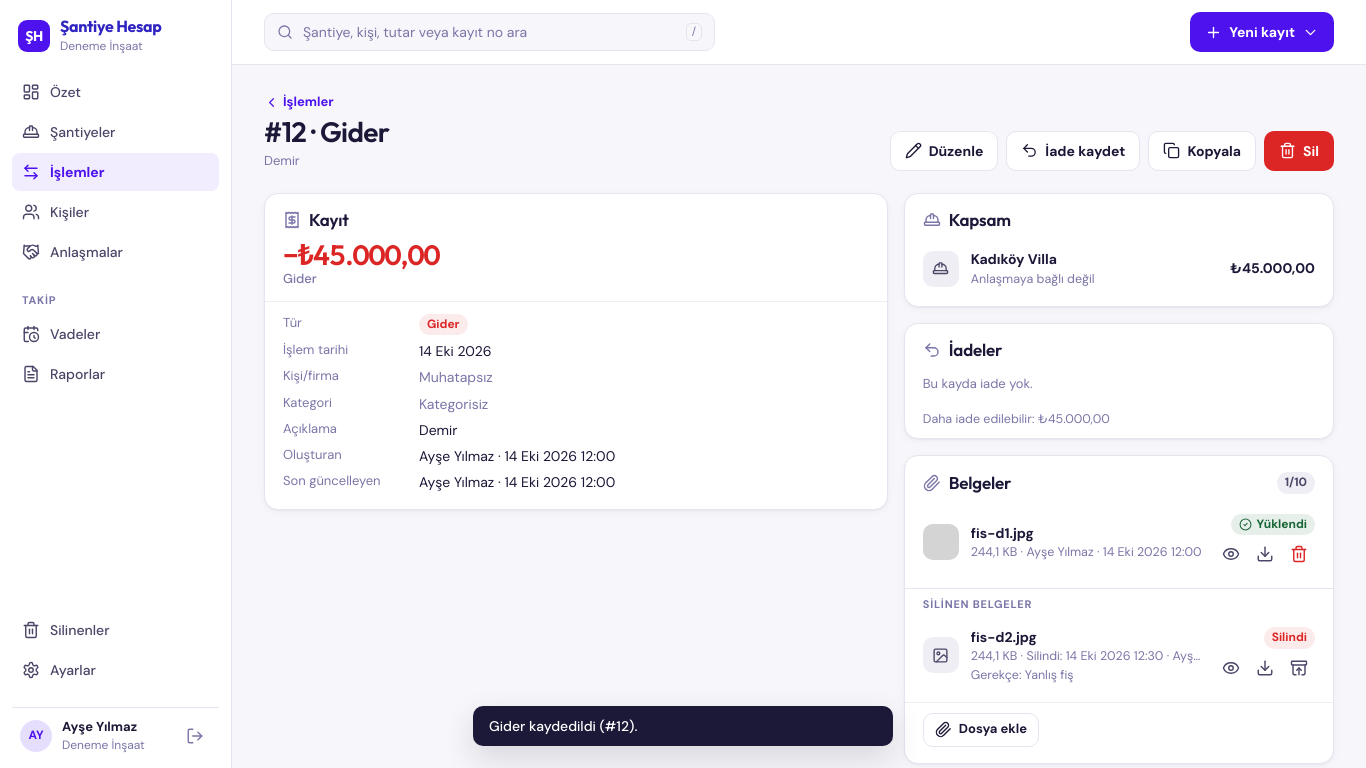
Test: işlem detayında belgeler › belge gerekçeyle silinir ve silinen belge gerekçeyle geri alınır
The image size is (1366, 768).
expect the text "Gerekçe: Yanlış fiş" is shown: met, box x1=971 y1=666 x2=1074 y2=682
Click the button named "fis-d1.jpg sil": [1299, 554] box x1=1283 y1=538 x2=1315 y2=570
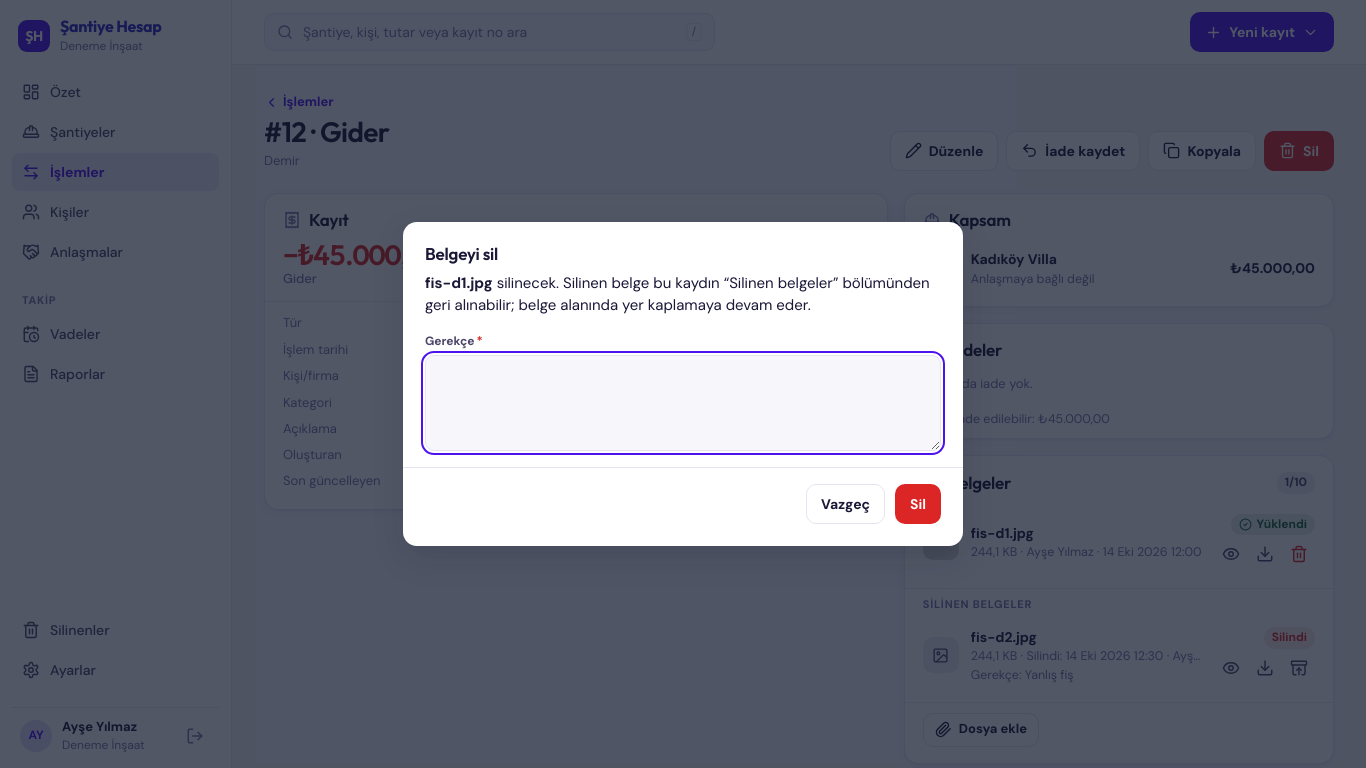
Click the button "Sil": [918, 504] box x1=895 y1=484 x2=941 y2=524
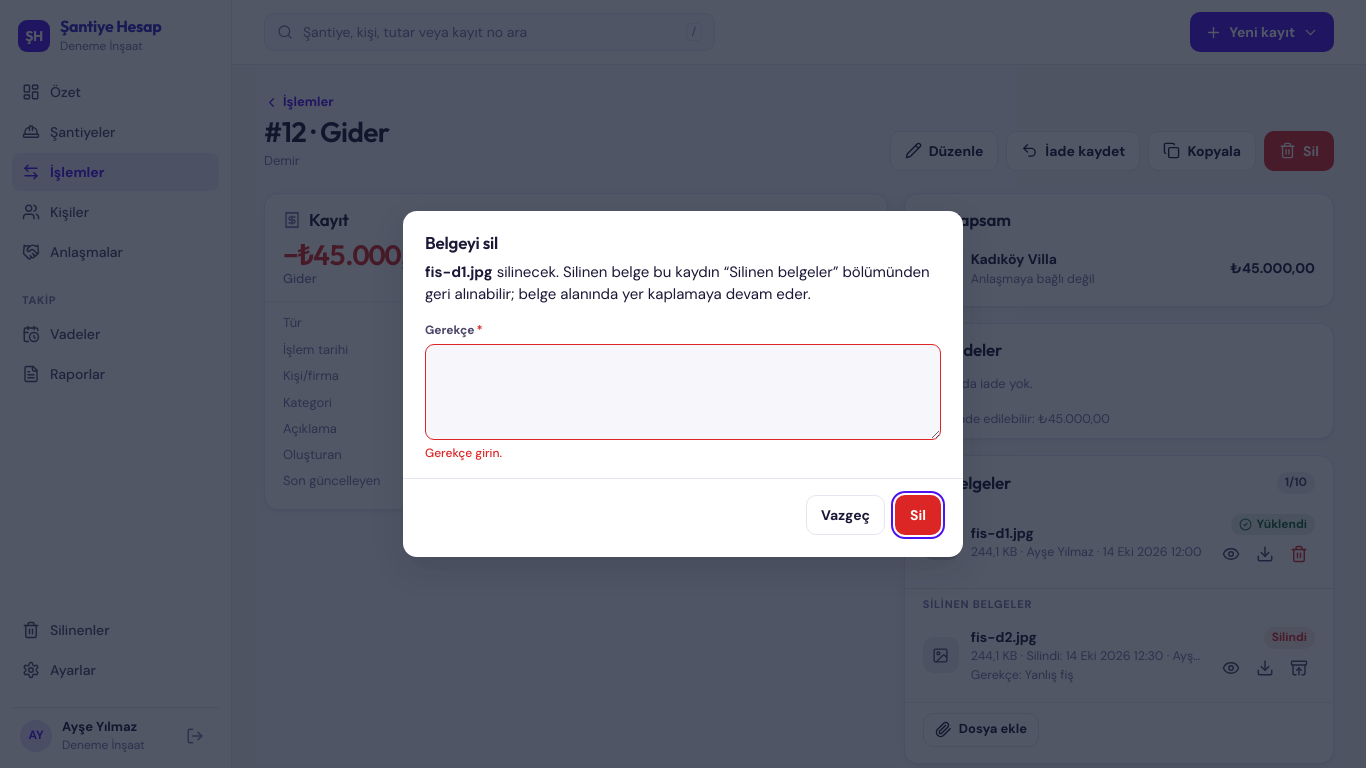
expect the text "Gerekçe girin." is shown: met, box x1=425 y1=445 x2=502 y2=461
In the text box labelled "Gerekçe*": [683, 392] box x1=425 y1=344 x2=941 y2=440, type "Mükerrer fotoğraf"
Click the button "Sil": [918, 515] box x1=895 y1=495 x2=941 y2=535
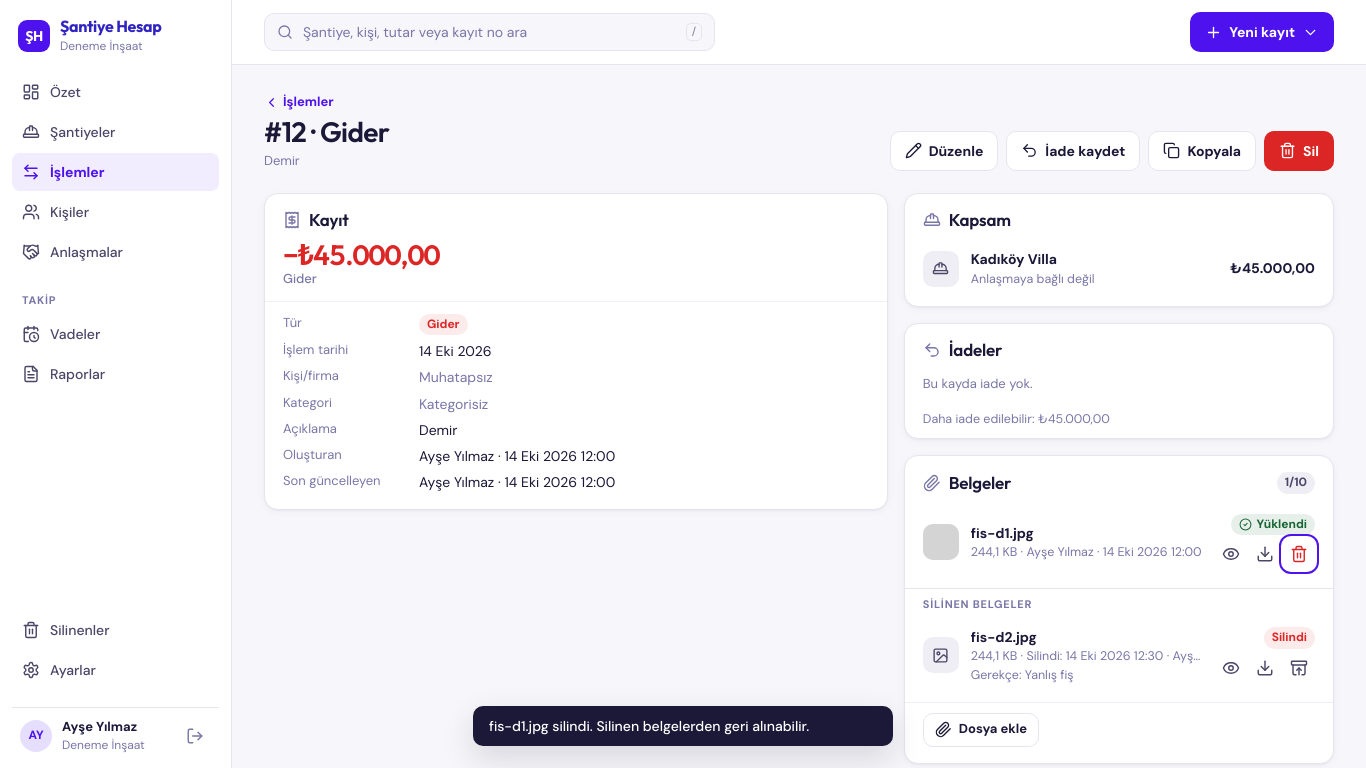
expect the dialog is gone: met
Click the button named "fis-d2.jpg geri al": [1299, 668] box x1=1283 y1=652 x2=1315 y2=684
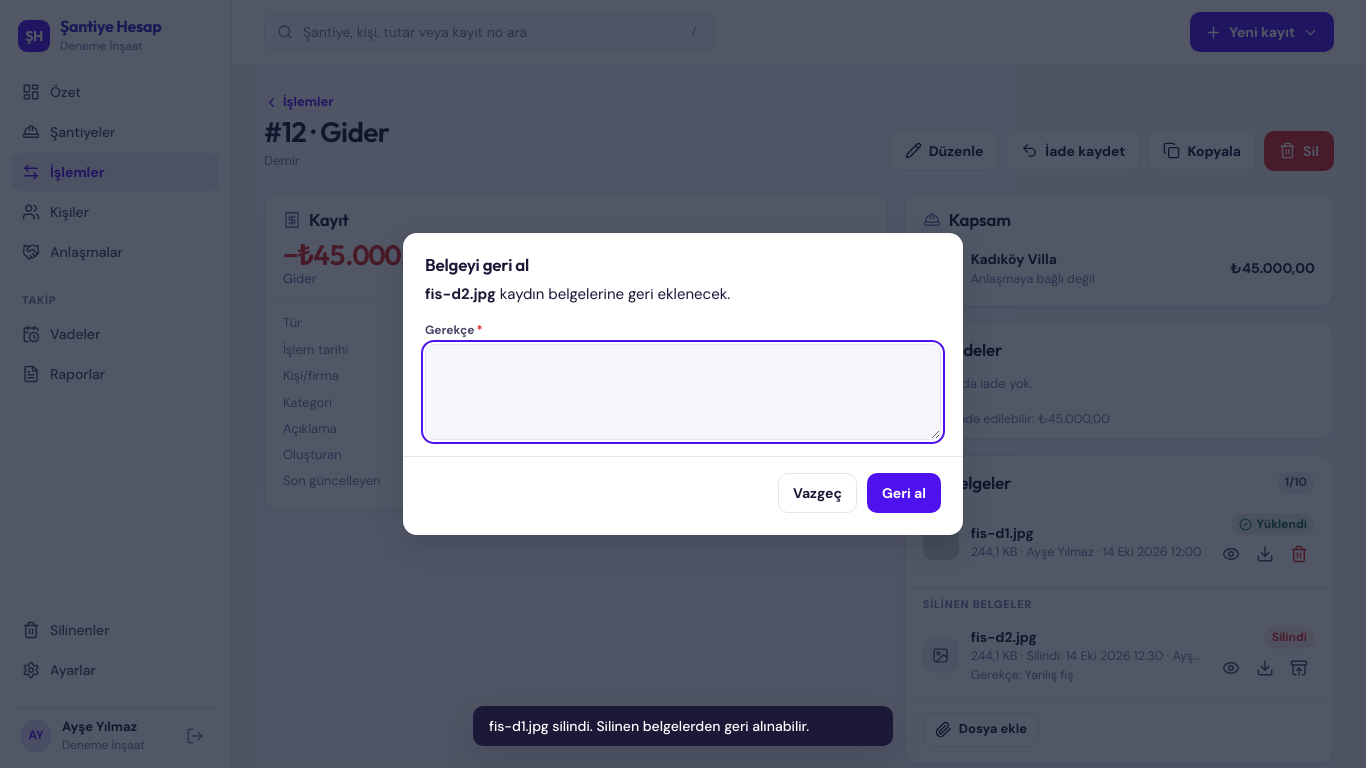
In the text box labelled "Gerekçe*": [683, 392] box x1=425 y1=344 x2=941 y2=440, type "Doğru fişmiş"
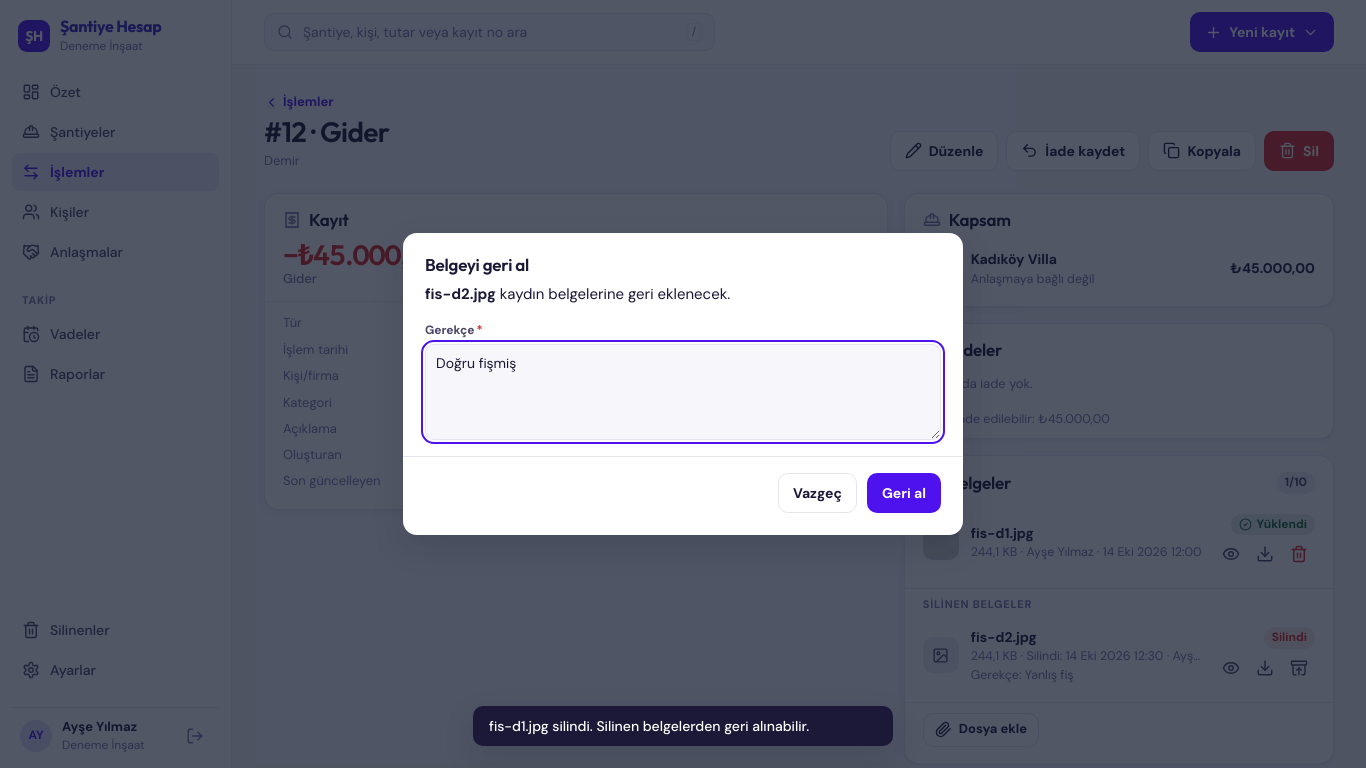
Click the button "Geri al": [904, 493] box x1=867 y1=473 x2=941 y2=513
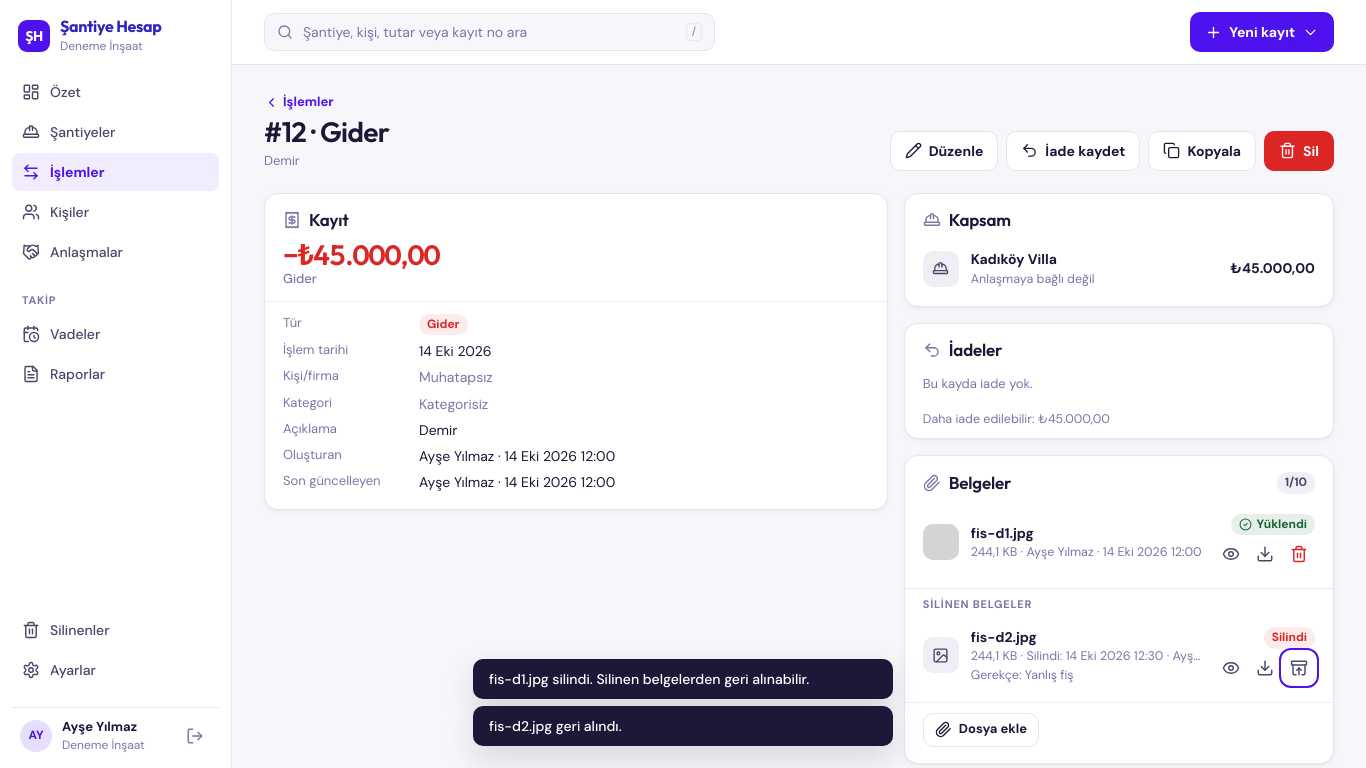
expect the dialog is gone: met
